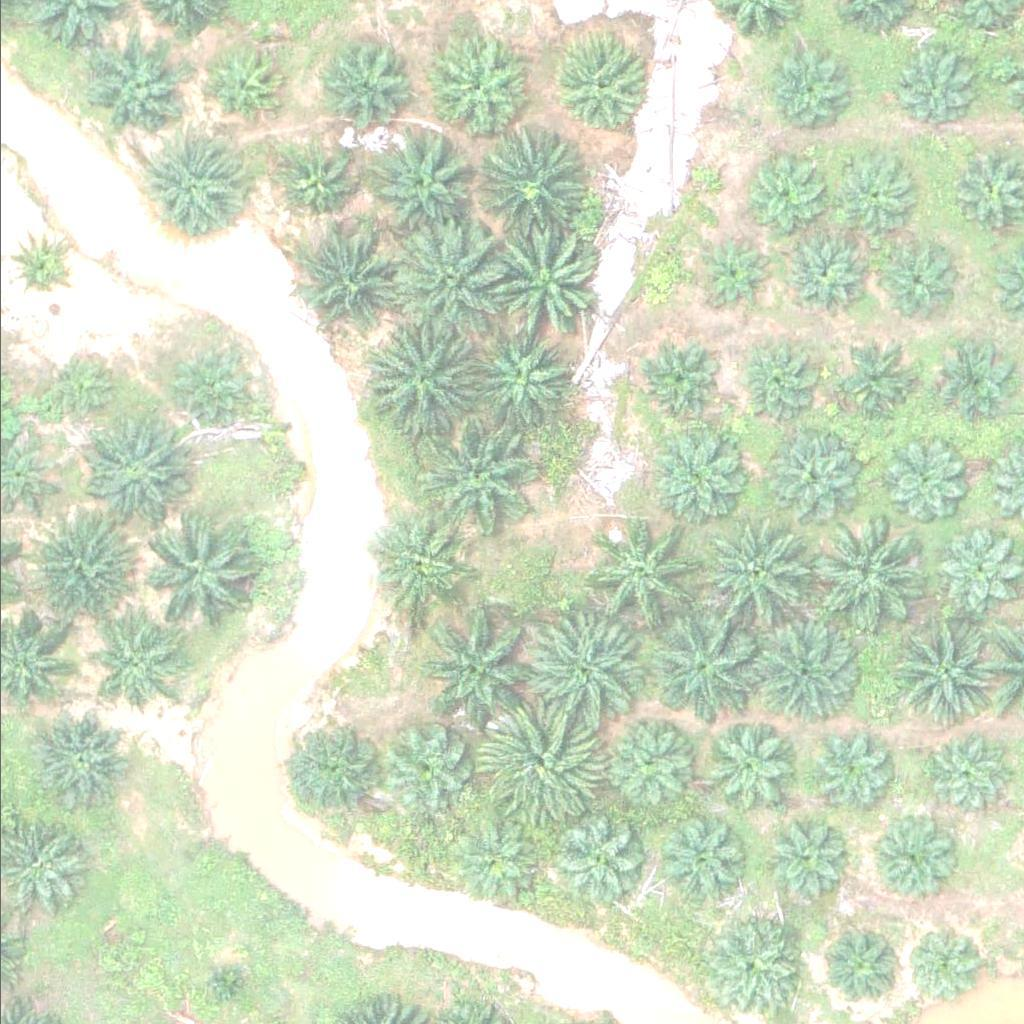Kelapa_Sawit: (364, 319, 478, 432), (749, 608, 863, 721), (147, 516, 260, 629), (74, 410, 187, 523), (486, 707, 599, 820), (652, 612, 765, 725), (469, 126, 582, 239), (524, 619, 638, 731), (423, 608, 536, 720), (19, 506, 132, 618), (423, 419, 536, 531), (390, 227, 503, 339), (880, 613, 993, 725), (586, 520, 699, 632), (695, 520, 808, 632), (807, 516, 920, 628), (486, 226, 599, 338), (372, 127, 473, 227), (706, 916, 807, 1016), (645, 808, 746, 908), (752, 425, 853, 525), (471, 326, 572, 426), (284, 718, 384, 818), (31, 709, 131, 809), (363, 515, 463, 615), (298, 225, 398, 325), (138, 135, 238, 235), (430, 38, 530, 138), (85, 41, 185, 141), (600, 718, 700, 818), (696, 722, 796, 822), (647, 424, 747, 524), (545, 36, 645, 136), (389, 722, 477, 810), (163, 338, 251, 426), (325, 35, 413, 123), (454, 819, 542, 907), (805, 728, 893, 816), (878, 437, 966, 525), (896, 37, 984, 125), (630, 336, 718, 424), (82, 620, 170, 707), (919, 727, 1007, 814), (862, 816, 950, 903), (816, 923, 904, 1010), (546, 817, 634, 904), (767, 812, 855, 899), (761, 44, 849, 131), (744, 154, 832, 241), (829, 150, 917, 237), (868, 235, 956, 322), (784, 236, 872, 323), (740, 334, 828, 421), (837, 342, 925, 429), (934, 334, 1022, 421), (933, 526, 1021, 613), (699, 237, 775, 312), (206, 47, 282, 122), (901, 926, 977, 1001), (281, 142, 356, 217), (45, 350, 120, 425), (6, 235, 69, 298), (203, 955, 254, 1005)
